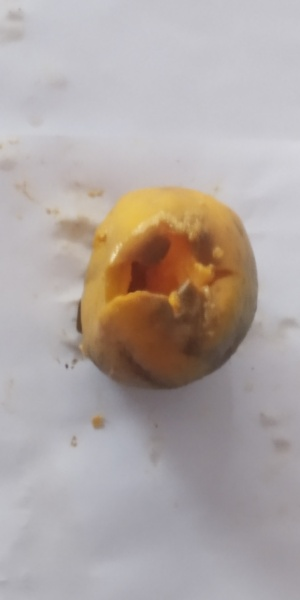BAD: (86, 184, 248, 389)
